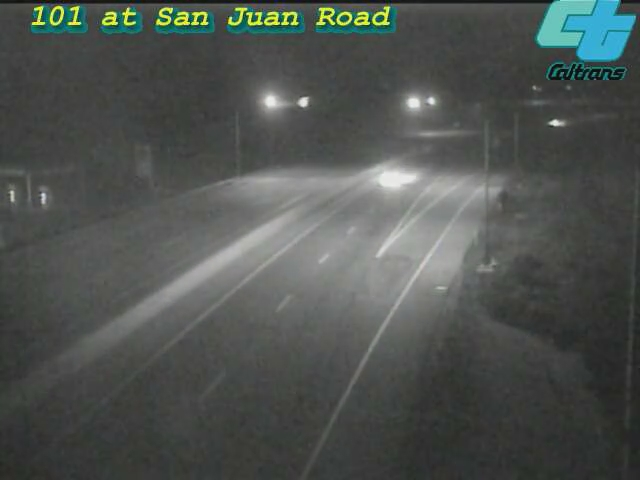vehicle: (351, 139, 431, 219), (532, 97, 582, 147)
